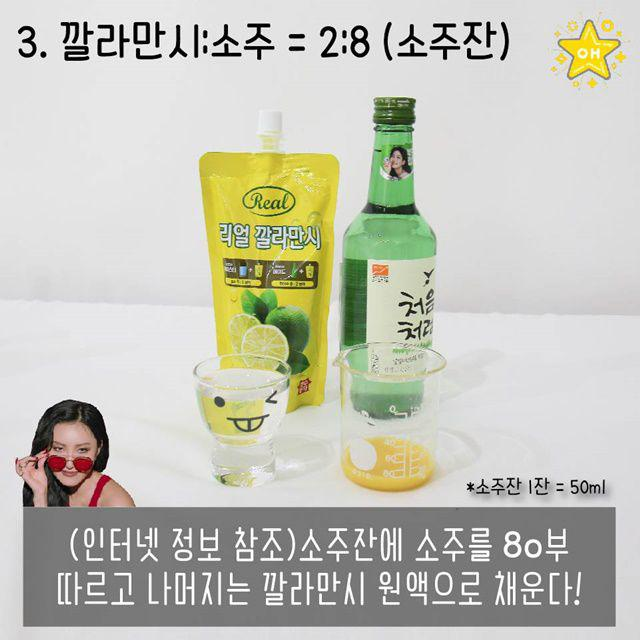soju: (337, 88, 442, 420)
